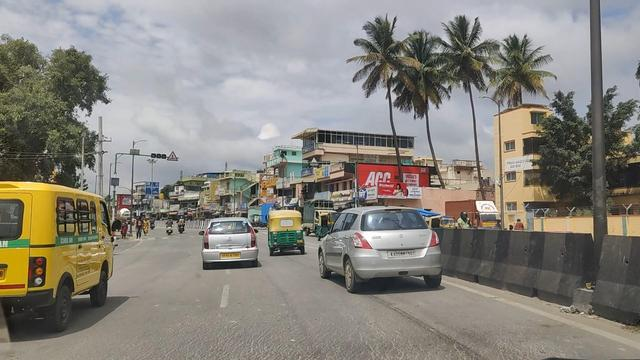LMV: (0, 154, 119, 334), (315, 186, 449, 301), (194, 202, 271, 281), (265, 203, 318, 269)
